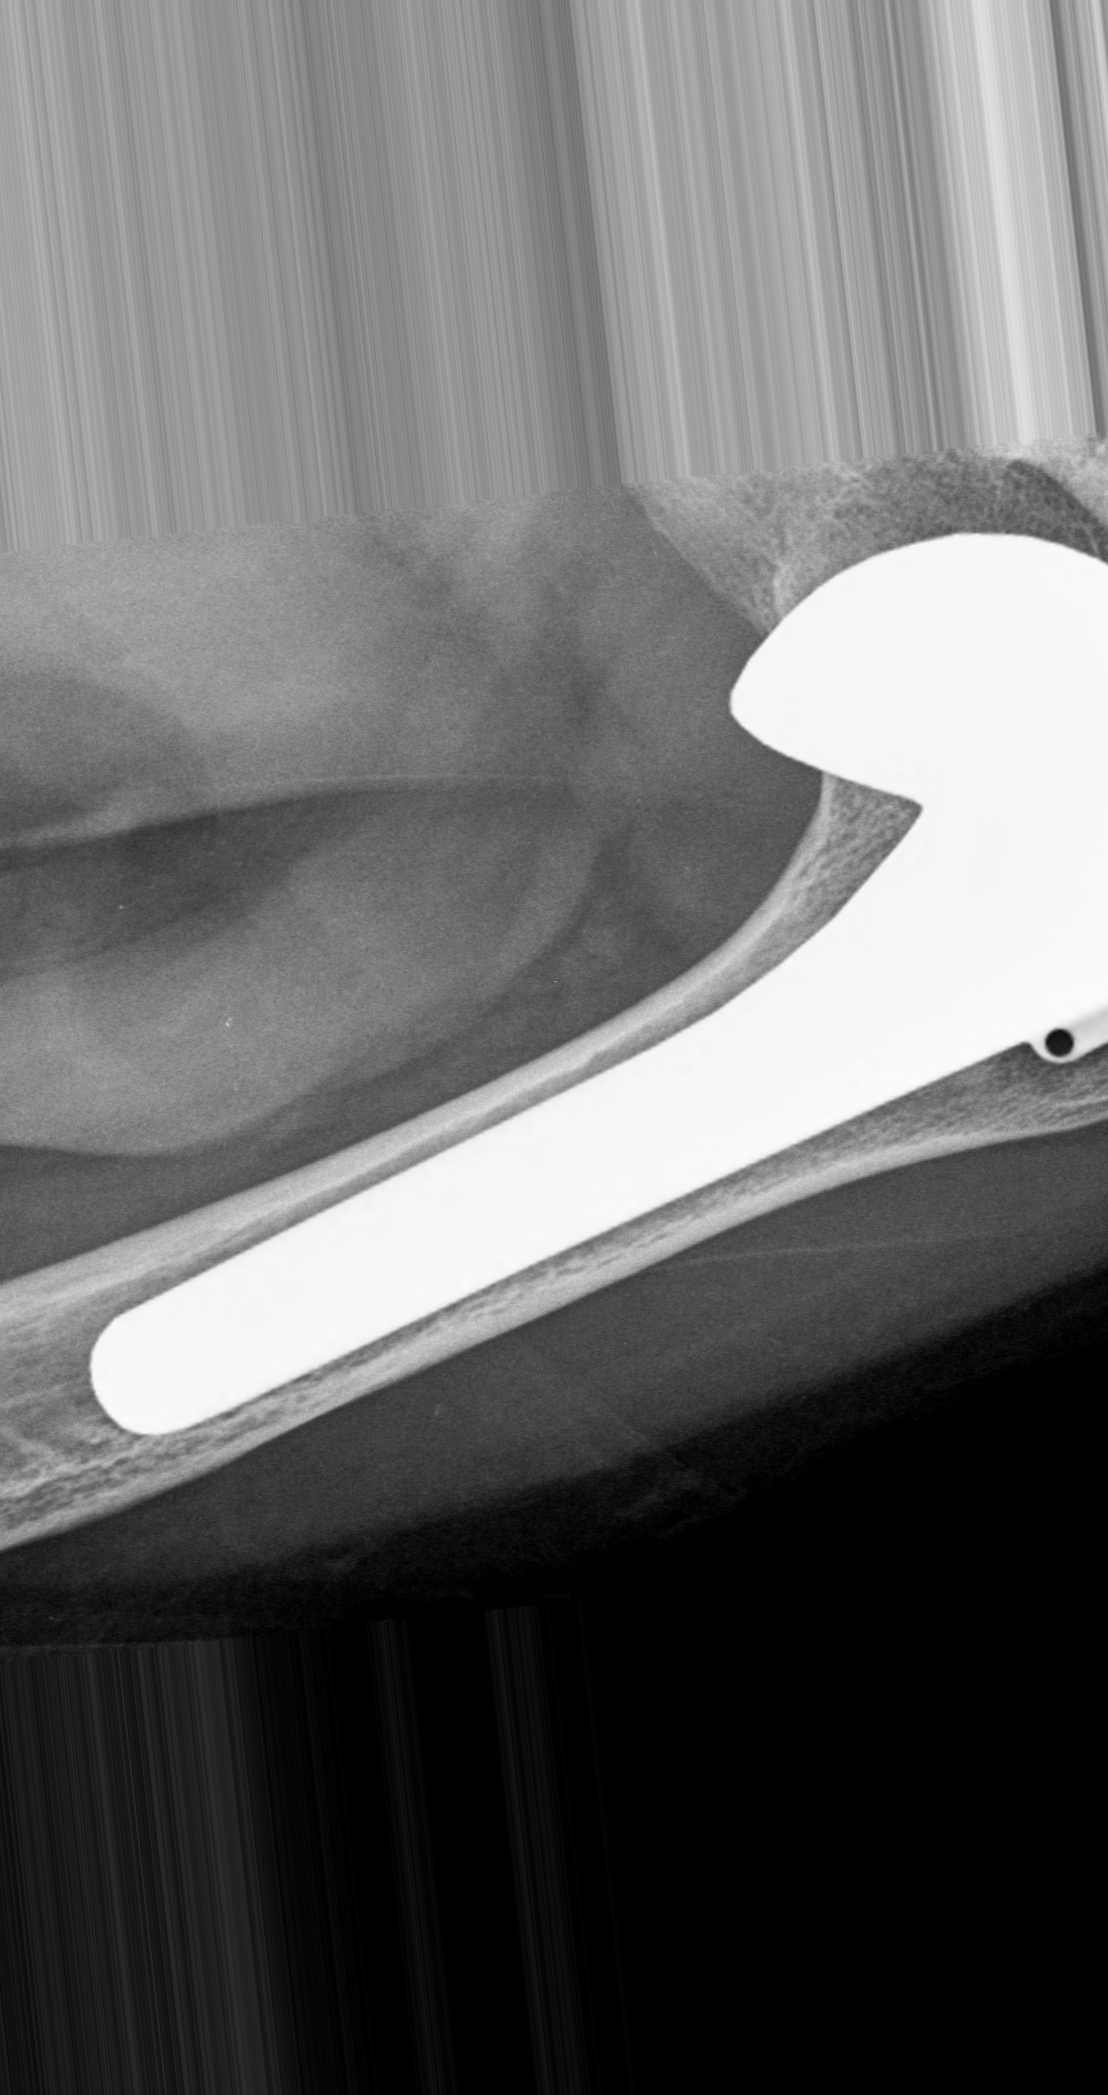Shoulder - AequalisPressfit - Tornier: (705, 509, 1108, 1096)
